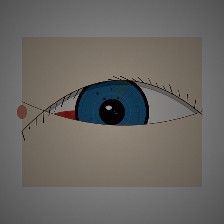hemorrhage_spot: (30, 85, 125, 161)
